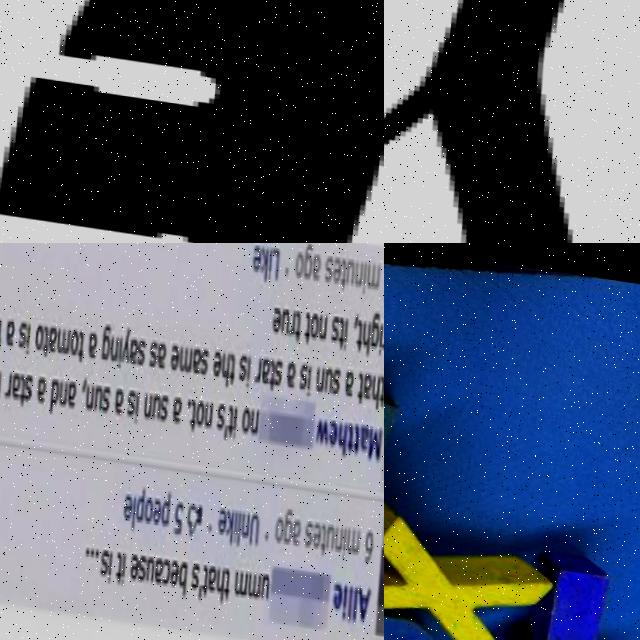5: (170, 496, 183, 533)
6: (360, 524, 373, 559)
T: (466, 541, 640, 640)
X: (384, 496, 542, 640)
Y: (384, 0, 640, 243)
